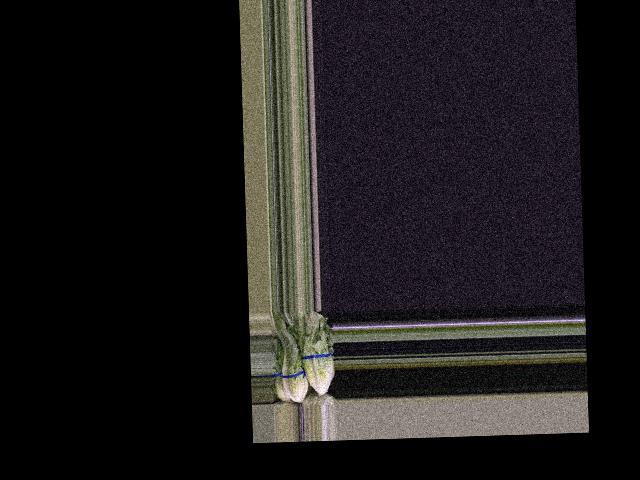lettuce: (274, 327, 308, 404)
